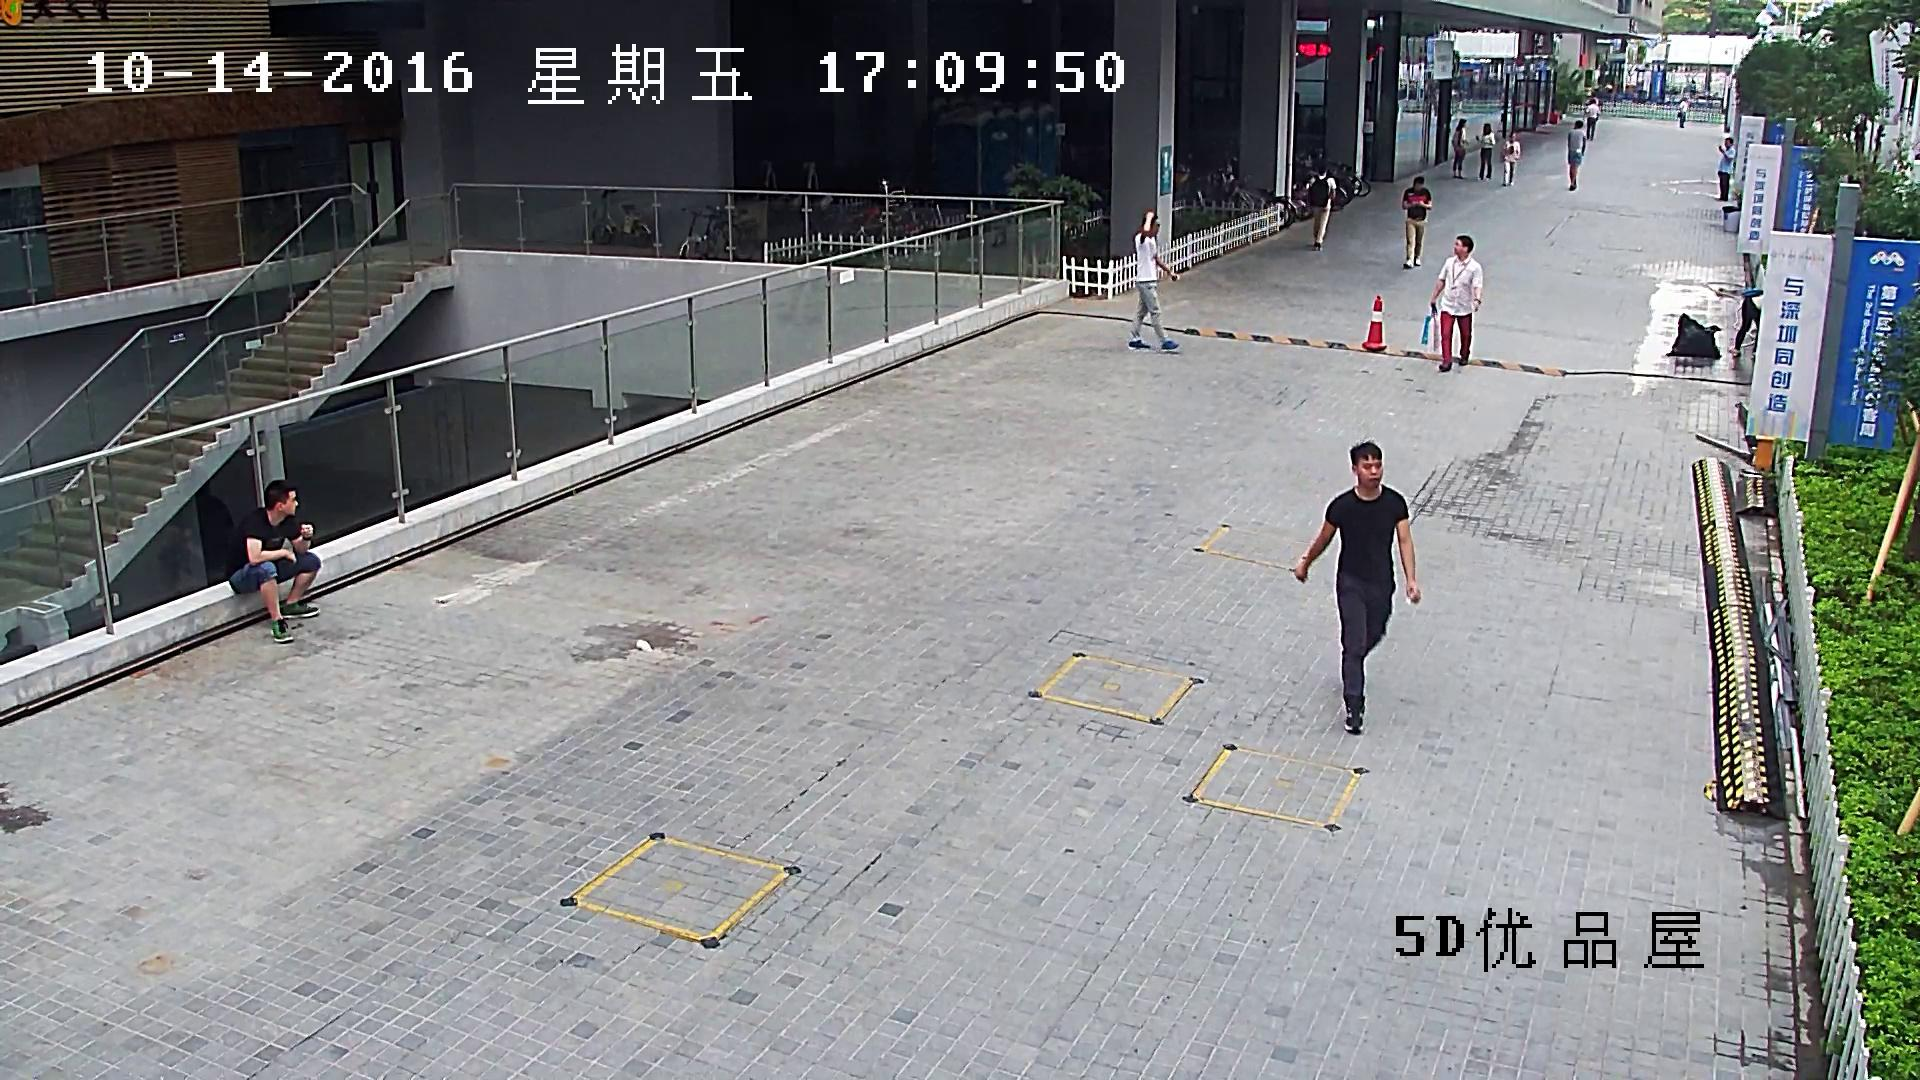person: (1293, 442, 1420, 732), (226, 479, 320, 643), (1420, 235, 1482, 372), (1129, 210, 1179, 351), (1401, 176, 1432, 267), (1309, 164, 1337, 250), (1732, 294, 1764, 359), (1568, 119, 1587, 191), (1714, 137, 1735, 200), (1475, 123, 1496, 180), (1451, 118, 1468, 180), (1502, 132, 1520, 185), (1586, 98, 1600, 141), (1676, 97, 1686, 128)
